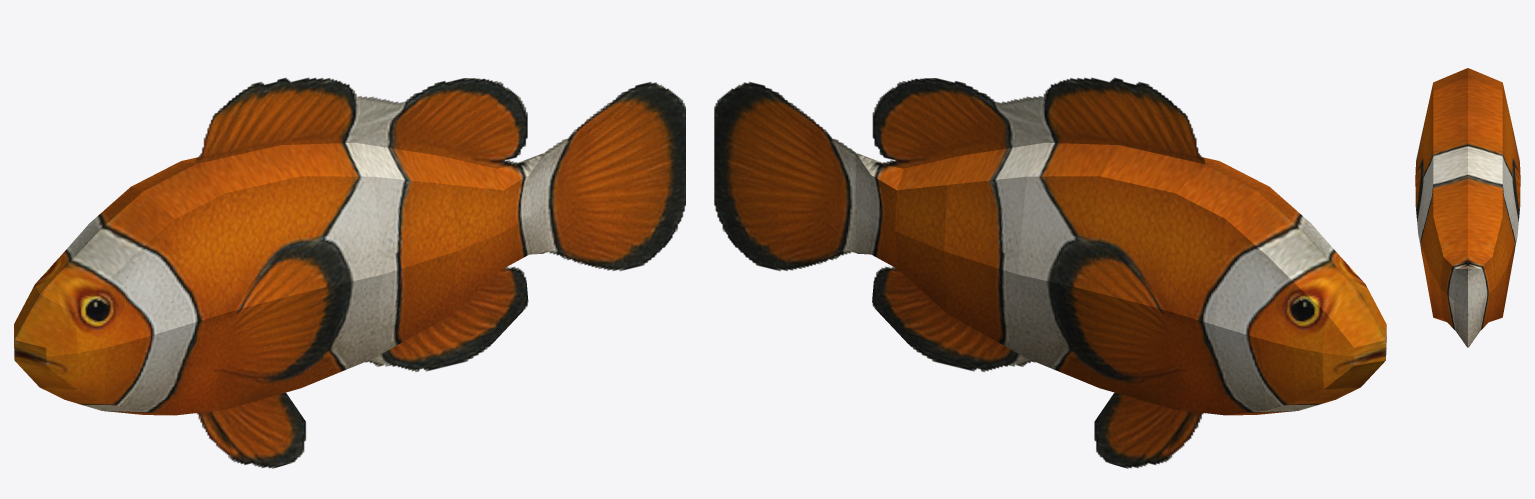
The model's file is Clownfish.glb.
3 views of the same model, side by side, from view 1: azimuth 30°, elevation 25°; view 2: azimuth 150°, elevation 25°; view 3: azimuth 270°, elevation 25° (orthographic). The views are drawn at different scales.
Parts seen in each view (by area): view 1: Clownfish; view 2: Clownfish; view 3: Clownfish.
Part boxes in pixels (<box>): Clownfish: <box>14,77,685,468</box>; Clownfish: <box>714,77,1386,468</box>; Clownfish: <box>1415,68,1520,347</box>.
Size of the model in its own units: 1.06 by 0.6266 by 0.1818.
1 material, 1 textured.
